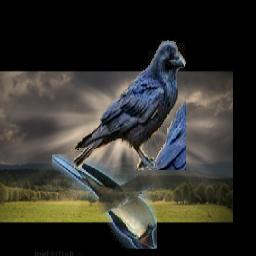Crow: (70, 40, 185, 170)
Swallow: (51, 154, 156, 249)
